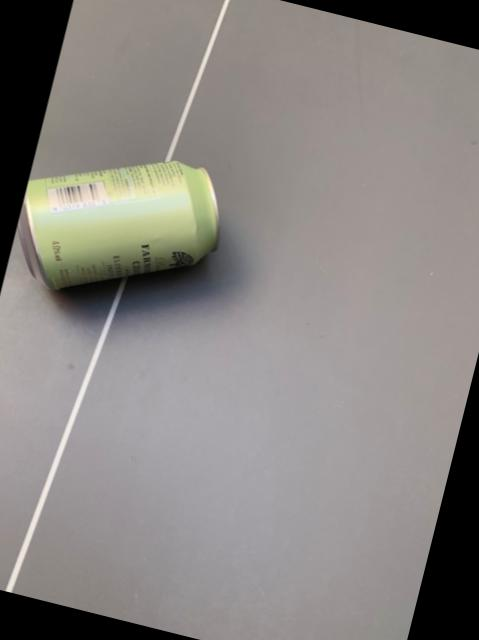metal: (16, 160, 216, 287)
